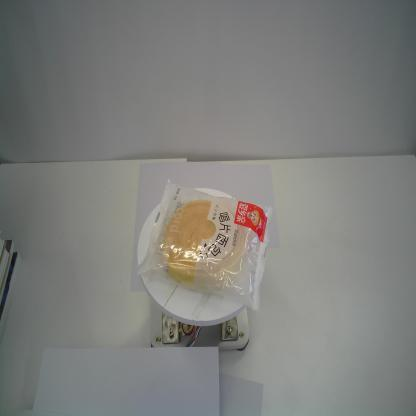Dessert: (133, 175, 275, 316)
